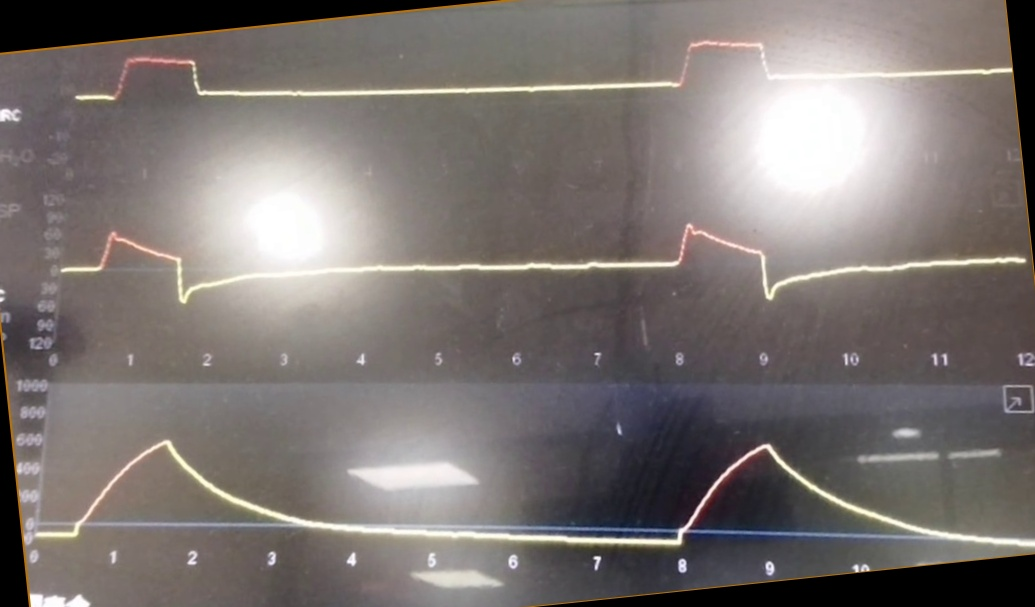Normal Flow: (59, 196, 1033, 338)
Normal Volume: (42, 426, 1035, 555)
